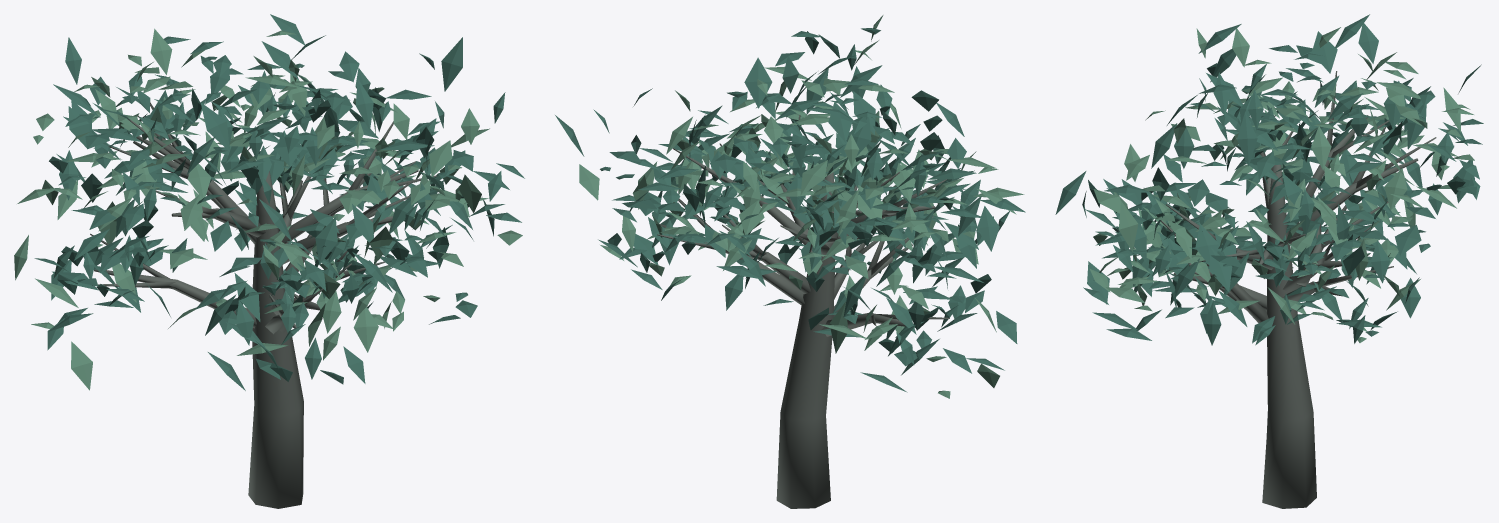
Rendered from oak_lod.glb.
3 renders of one model, left to right at view 1: azimuth 30°, elevation 25°; view 2: azimuth 150°, elevation 25°; view 3: azimuth 270°, elevation 25°, orthographic. The views are drawn at different scales.
Visible parts, largest first — view 1: Moonwater oak leaves, Moonwater oak branches; view 2: Moonwater oak leaves, Moonwater oak branches; view 3: Moonwater oak leaves, Moonwater oak branches.
Part boxes in pixels (<box>): Moonwater oak leaves: <box>14,14,524,390</box>; Moonwater oak branches: <box>90,102,436,508</box>; Moonwater oak leaves: <box>555,15,1025,398</box>; Moonwater oak branches: <box>657,115,949,508</box>; Moonwater oak leaves: <box>1055,14,1483,345</box>; Moonwater oak branches: <box>1160,71,1436,508</box>.
Bounding box in the file's own units: 6.12 × 6.12 × 5.22.
